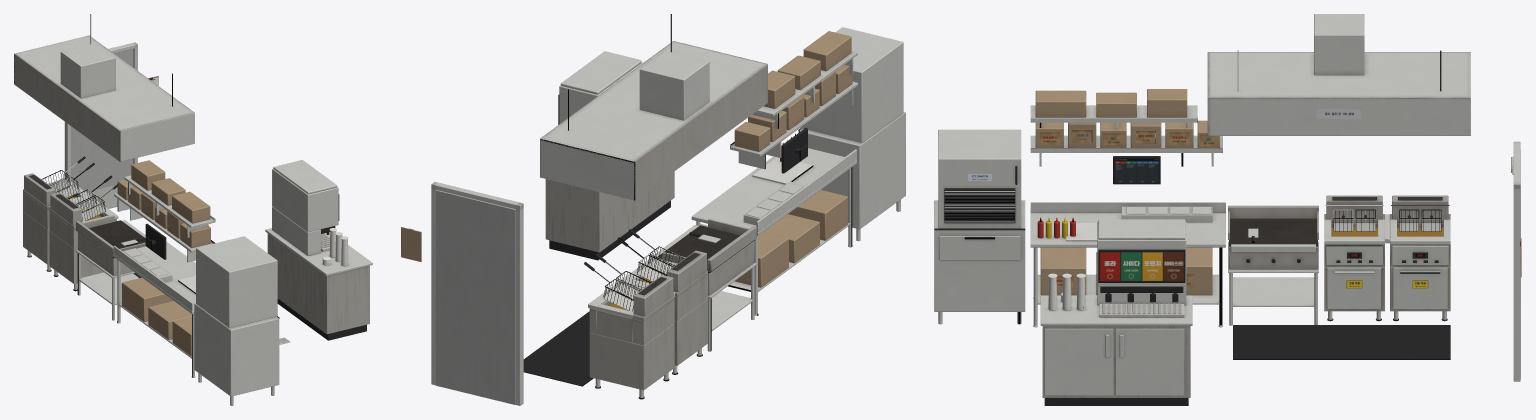
File: StoreKitchen.fbx
3 views of the same model, side by side, from view 1: azimuth 30°, elevation 25°; view 2: azimuth 150°, elevation 25°; view 3: azimuth 270°, elevation 25° (orthographic). The views are drawn at different scales.
Parts seen in each view (by area): view 1: StoreKitchen_Line, StoreKitchen_Island, StoreKitchen_StaffDoor; view 2: StoreKitchen_Line, StoreKitchen_StaffDoor, StoreKitchen_Island; view 3: StoreKitchen_Line, StoreKitchen_Island, StoreKitchen_Screens, StoreKitchen_Labels.
Part boxes in pixels (x1,y1,x2,y2): StoreKitchen_Line: (14, 14, 290, 405); StoreKitchen_Island: (265, 160, 372, 340); StoreKitchen_StaffDoor: (71, 49, 133, 208); StoreKitchen_Line: (401, 14, 905, 405); StoreKitchen_StaffDoor: (435, 190, 515, 404); StoreKitchen_Island: (545, 51, 674, 260); StoreKitchen_Line: (934, 14, 1521, 381); StoreKitchen_Island: (1040, 219, 1192, 405); StoreKitchen_Screens: (1099, 158, 1425, 280); StoreKitchen_Labels: (967, 109, 1428, 288).
Bounding box in the file's own units: 2.63 × 3.1 × 5.8.
